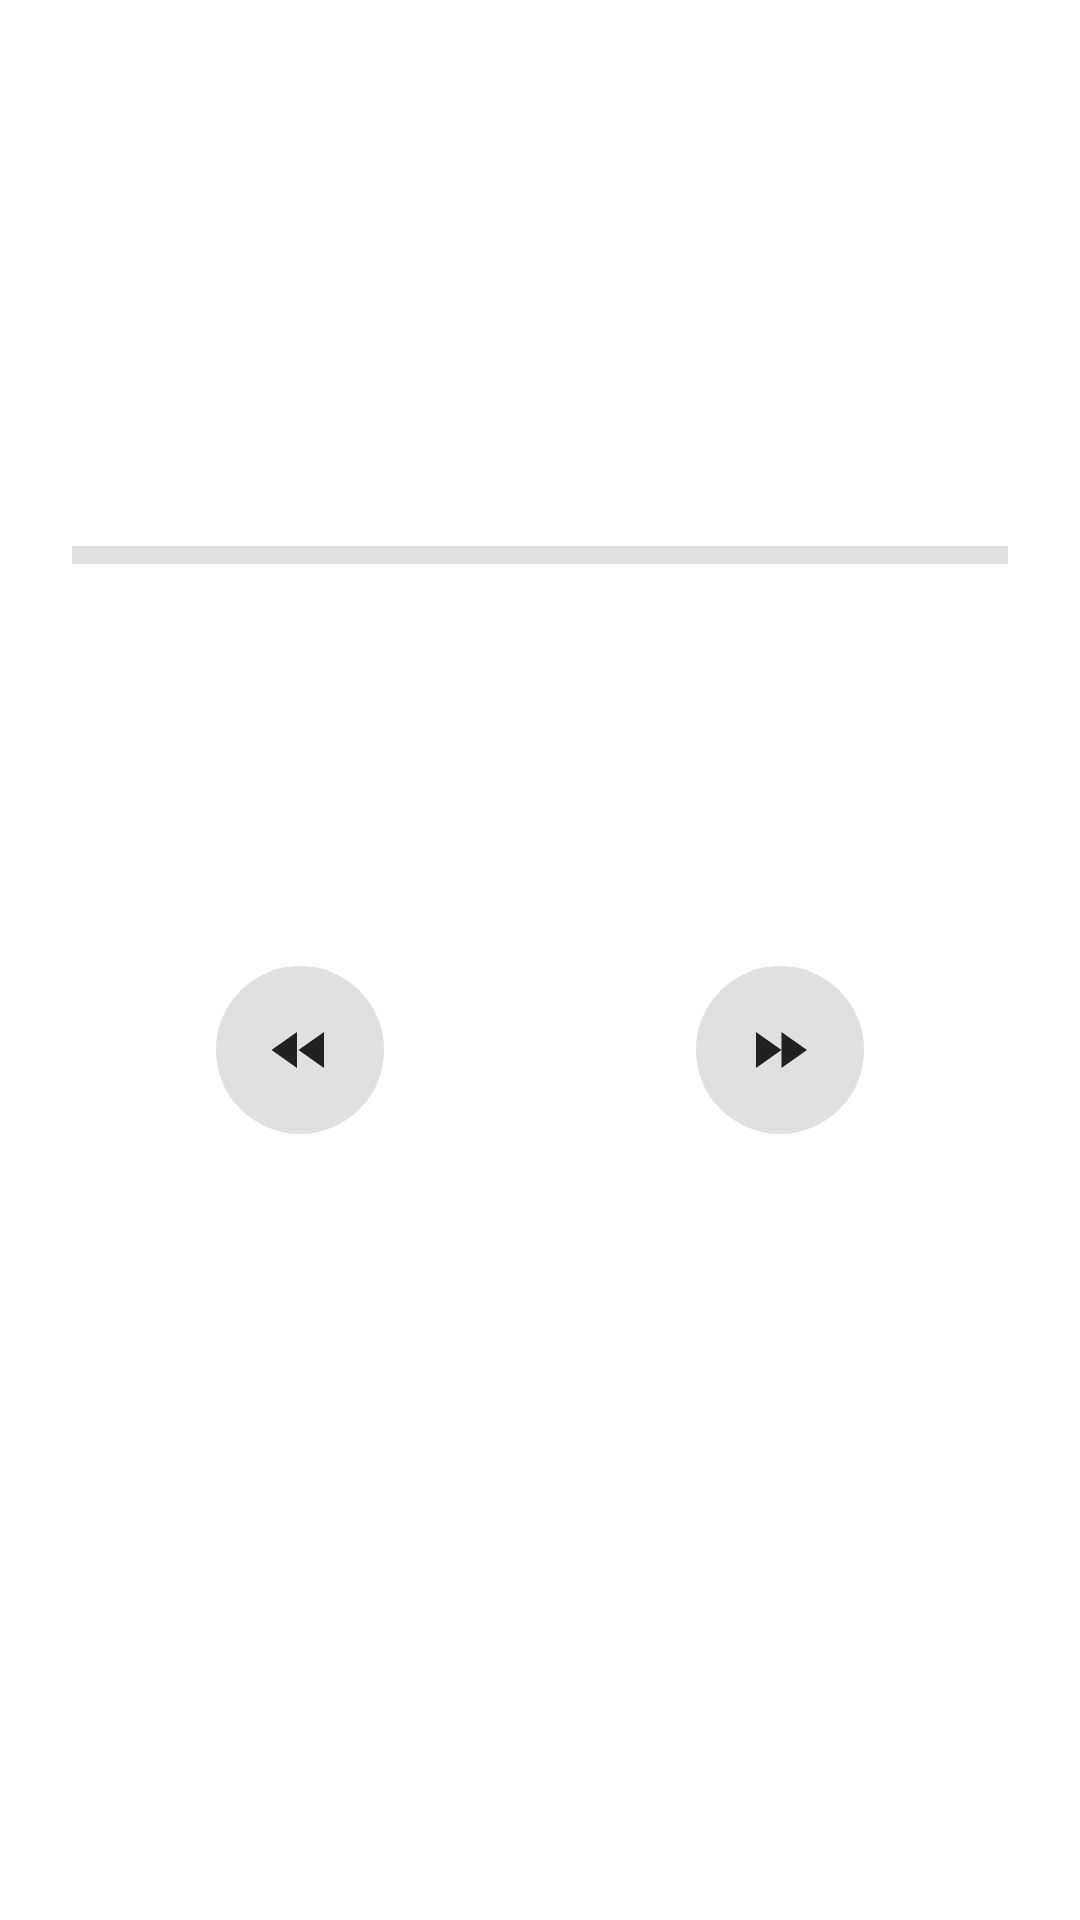

Where to tap for icons on this 1080x1920 app screen, as [x,y]:
后退3秒: [300,1050]
快进3秒: [780,1050]
